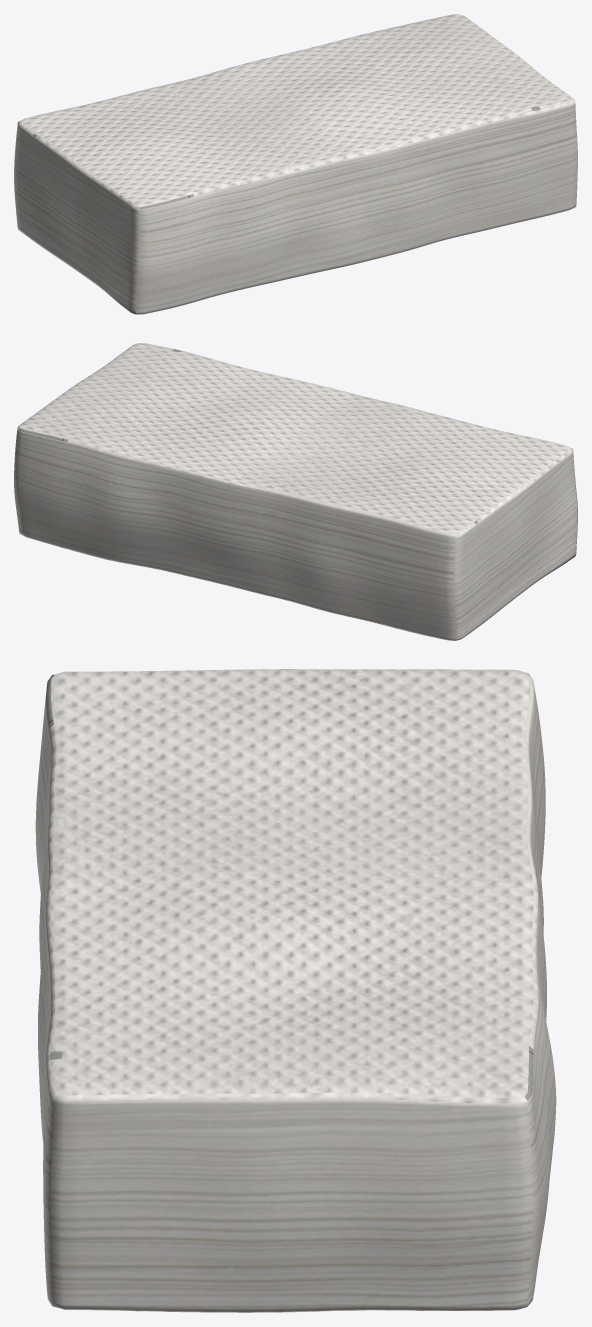
File: PaperTowel.glb
3 views of the same model, one above another, from view 1: azimuth 30°, elevation 25°; view 2: azimuth 150°, elevation 25°; view 3: azimuth 270°, elevation 25° (orthographic). The views are drawn at different scales.
Parts seen in each view (by area): view 1: PaperTowel; view 2: PaperTowel; view 3: PaperTowel.
Boxes of the visible parts, x1,y1,x2,y2 form: PaperTowel: (14,14,577,314); PaperTowel: (14,343,577,640); PaperTowel: (35,669,556,1312).
Bounding box in the file's own units: 21.74 × 5.52 × 10.95.
2 materials, 1 textured.
